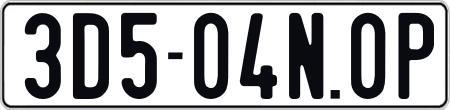0: (194, 10, 234, 97), (351, 10, 389, 99)
3: (25, 13, 64, 103)
4: (239, 10, 282, 102)
5: (121, 11, 162, 102)
D: (71, 10, 111, 101)
N: (288, 11, 324, 98)
P: (397, 10, 433, 102)
